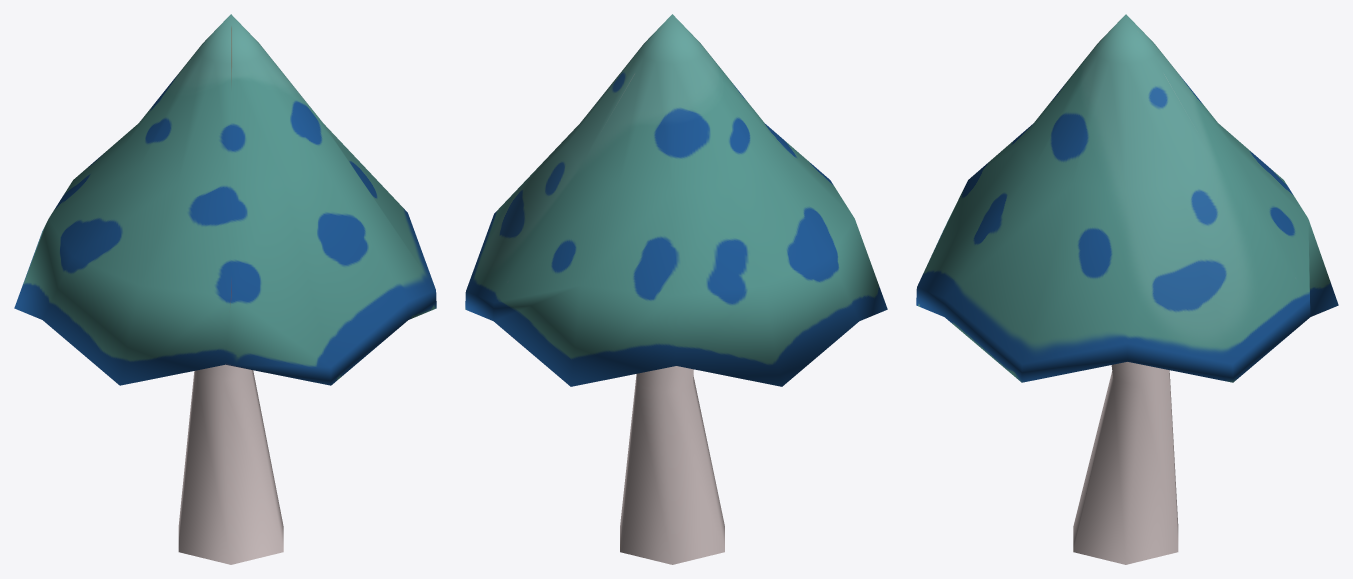
File: mushroom_1.fbx
3 renders of one model, left to right at view 1: azimuth 30°, elevation 25°; view 2: azimuth 150°, elevation 25°; view 3: azimuth 270°, elevation 25°, orthographic.
Visible parts, largest first — view 1: Sphere004; view 2: Sphere004; view 3: Sphere004.
Boxes of the visible parts, bbox=[...] form: Sphere004: bbox=[14, 14, 436, 564]; Sphere004: bbox=[465, 14, 887, 564]; Sphere004: bbox=[916, 14, 1338, 564].
Bounding box in the file's own units: 10.31 × 10.31 × 14.15.
